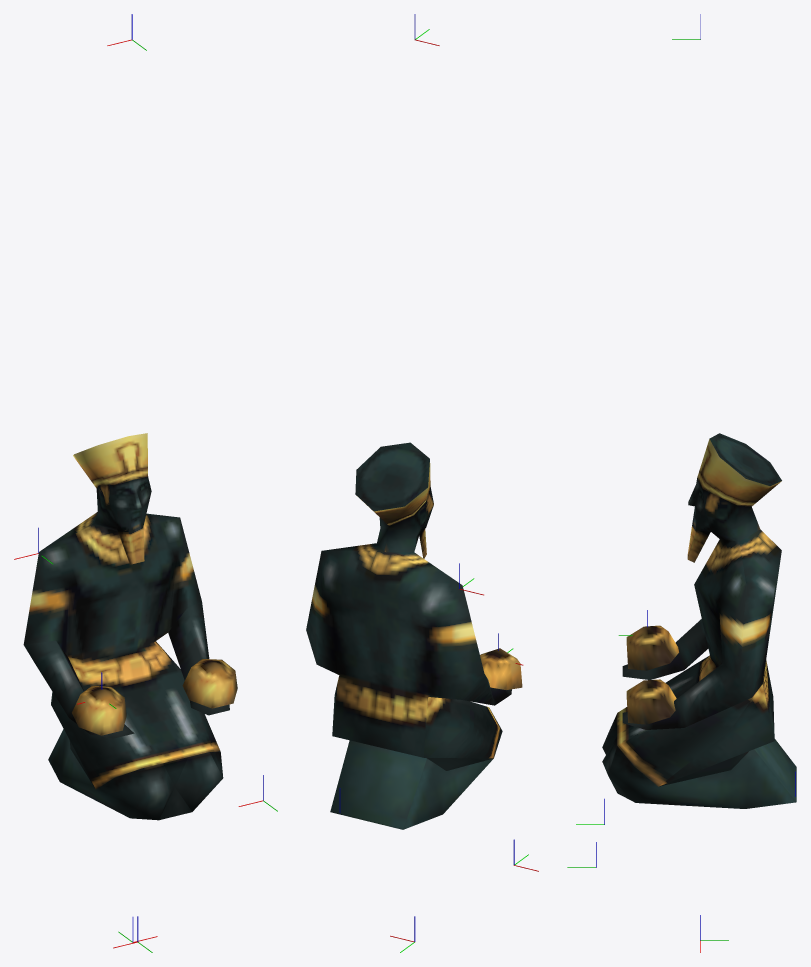
The model's file is egyptian-monument-to-villagers.glb.
3 views of the same model, side by side, from view 1: azimuth 30°, elevation 25°; view 2: azimuth 150°, elevation 25°; view 3: azimuth 270°, elevation 25° (orthographic).
Parts seen in each view (by area): view 1: building e monument1Model; view 2: building e monument1Model; view 3: building e monument1Model.
Part boxes in pixels (bbox=[...]): building e monument1Model: bbox=[23, 433, 237, 820]; building e monument1Model: bbox=[306, 442, 522, 829]; building e monument1Model: bbox=[602, 433, 796, 808].
Size of the model in its own units: 1.84 by 8.94 by 2.
Materials: 2 (1 with a texture image).
